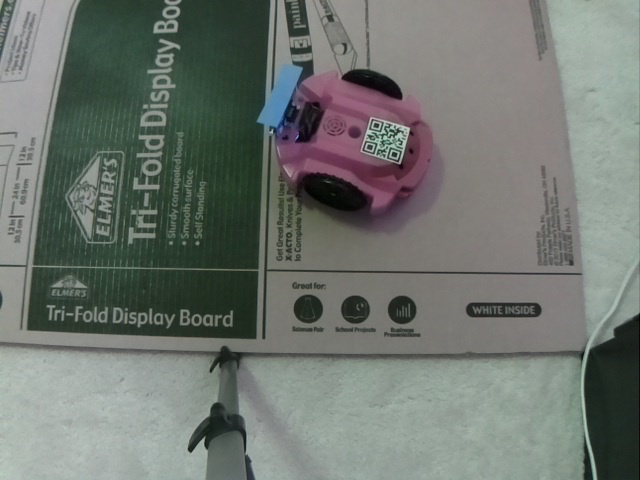chassis: (251, 59, 444, 223)
qr: (359, 116, 413, 164)
